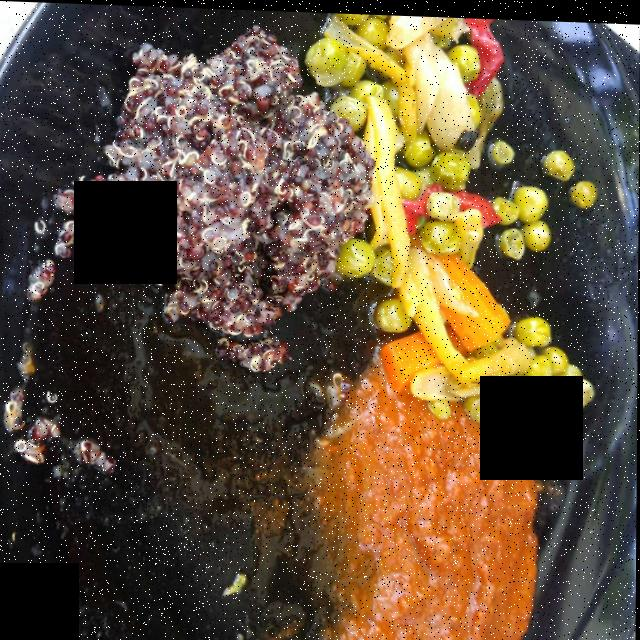mixed-vegetables: (301, 32, 592, 451)
quinoa: (30, 28, 374, 362)
tomato-sauce: (329, 341, 545, 636)
